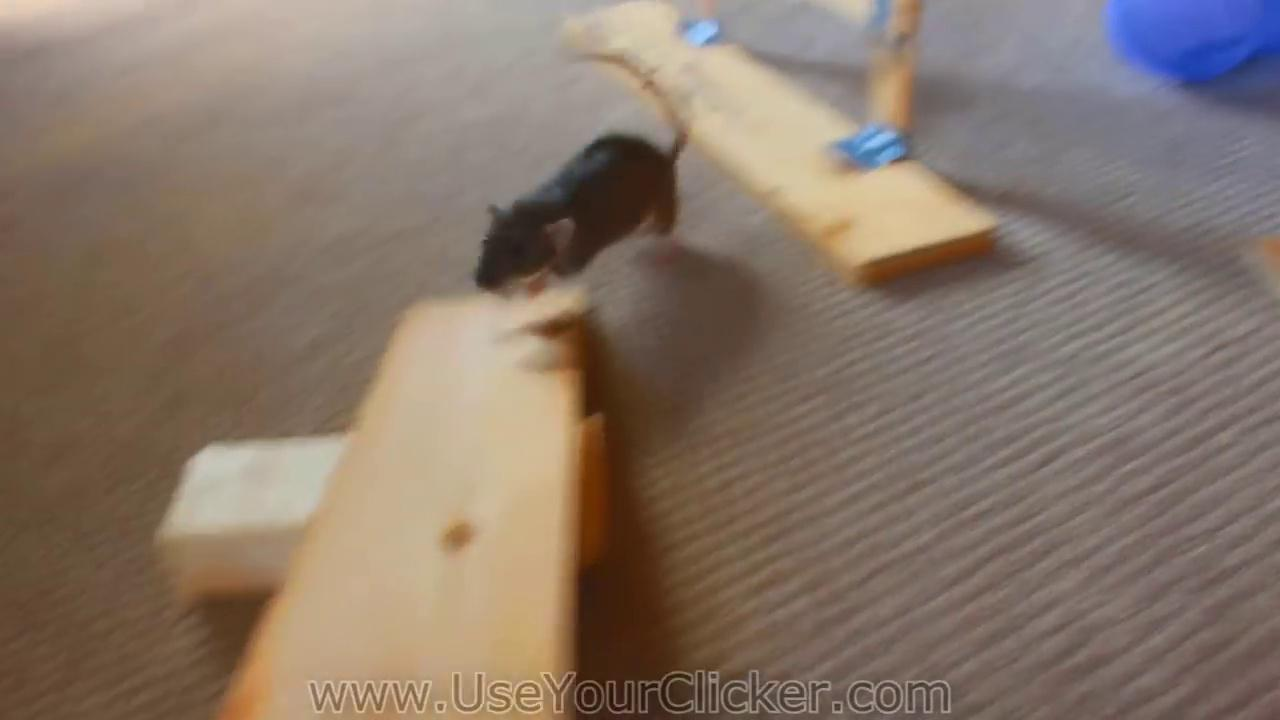rat: (475, 54, 685, 296)
